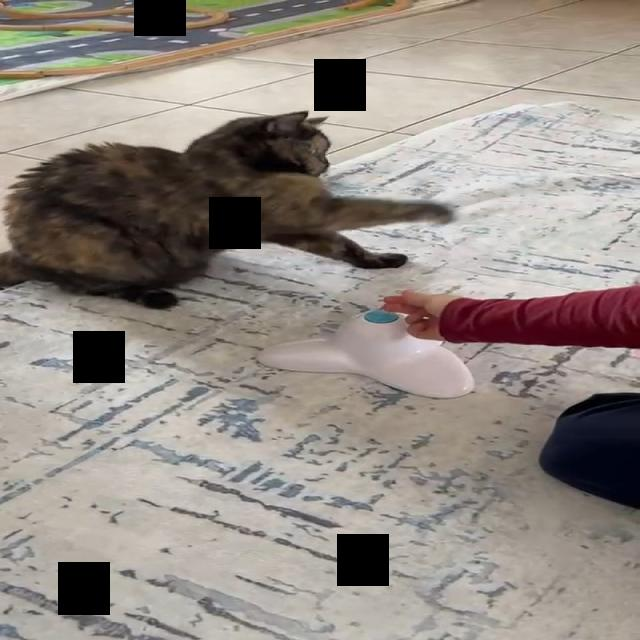authorized: (0, 109, 455, 310)
